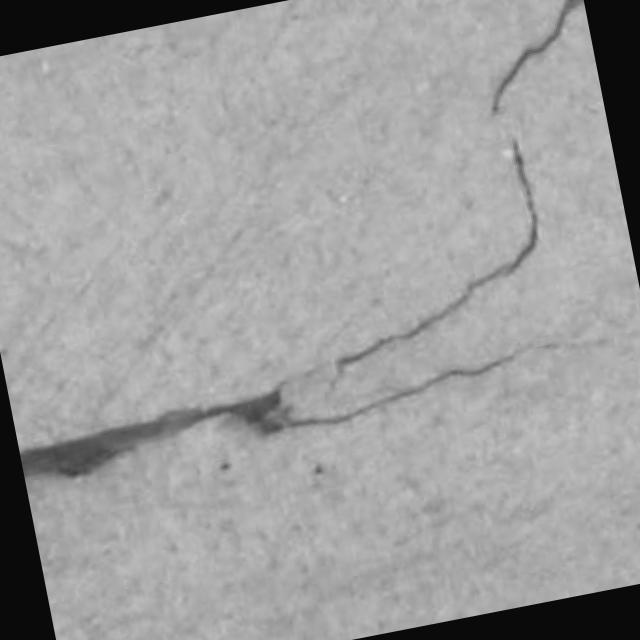crack: (19, 352, 518, 477), (334, 139, 539, 381), (334, 139, 539, 374), (265, 338, 606, 433), (19, 389, 281, 477), (265, 346, 526, 433), (492, 0, 583, 113)
